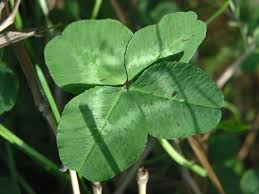4-clover: (43, 11, 225, 180)
